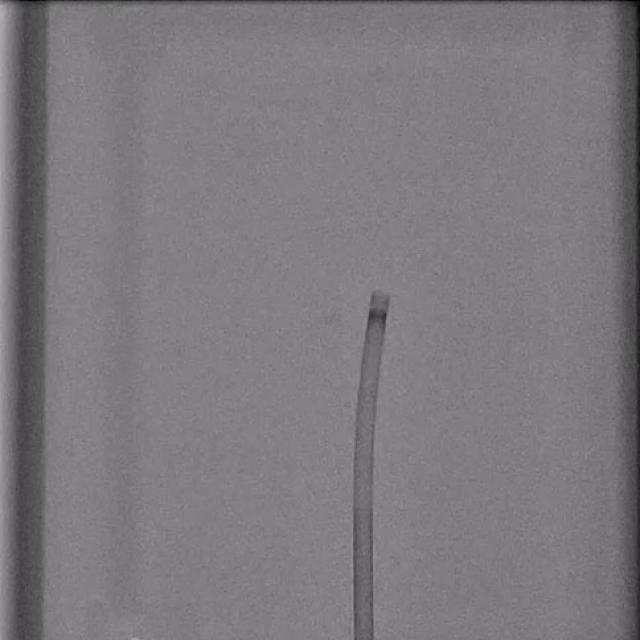bend: (353, 495, 372, 510)
entry: (354, 636, 373, 640)
marker: (367, 307, 389, 324)
tip: (371, 290, 391, 301)
